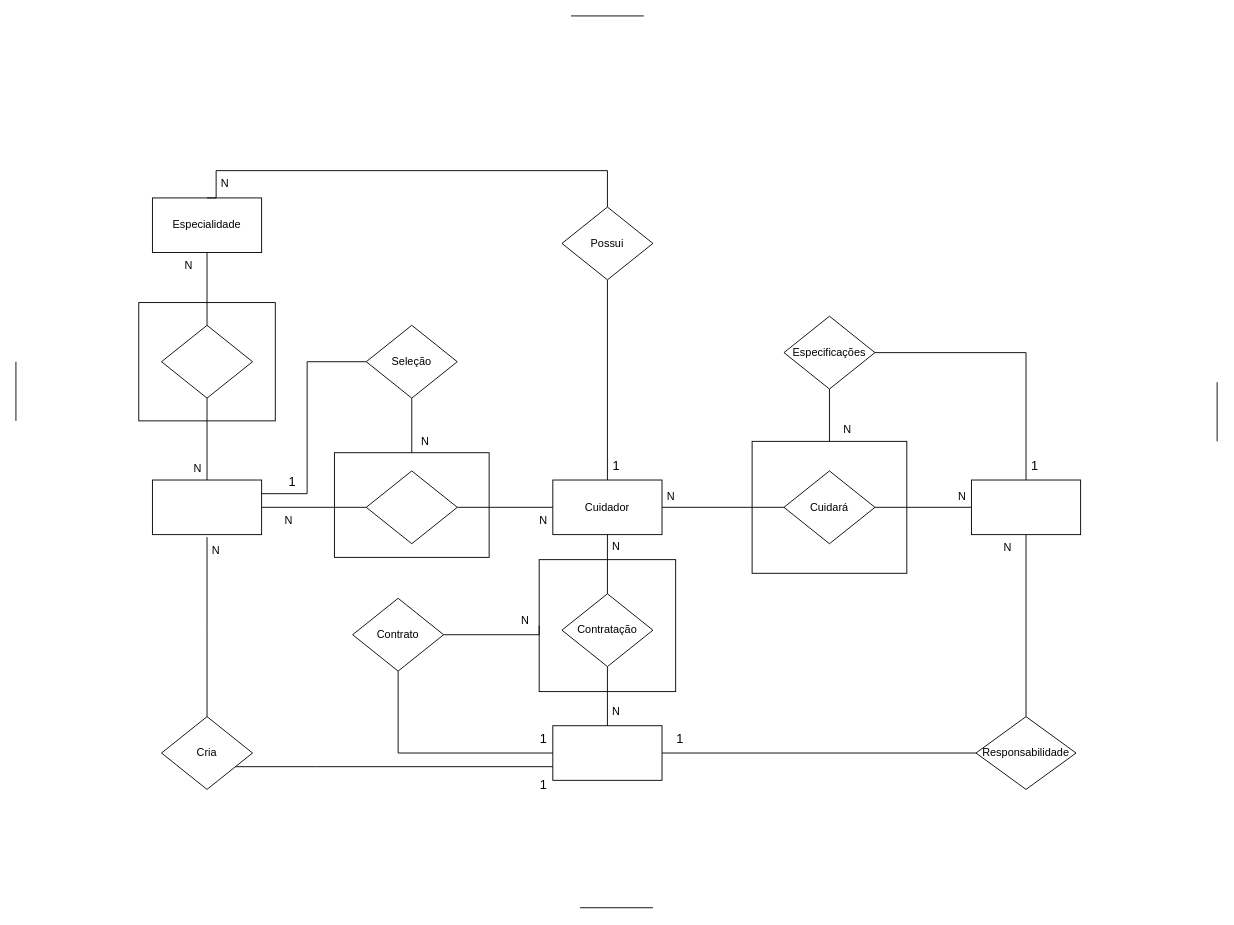
The diagram is 1234 pixels wide and 925 high, and some of its shapes have lost their labels. The shapes that lost their labels are listed below. From the top down, each one's centre as x and y in pixels, then its label:
At pixel 207 361: "Busca".
At pixel 207 507: "Anúncio".
At pixel 411 507: "Candidatura".
At pixel 1026 507: "Paciente".
At pixel 607 752: "Responsável".
